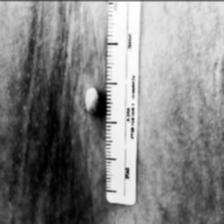Unclassified: (84, 86, 102, 116)
